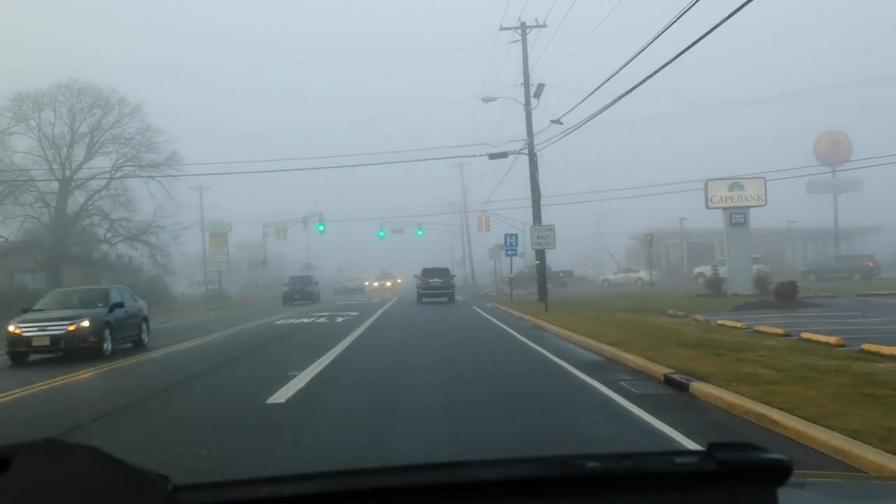car: (1, 284, 155, 367), (693, 254, 773, 288), (800, 254, 882, 285), (507, 264, 574, 293), (411, 266, 459, 302), (598, 266, 660, 290), (281, 275, 321, 306), (331, 277, 367, 296), (373, 273, 399, 294)
